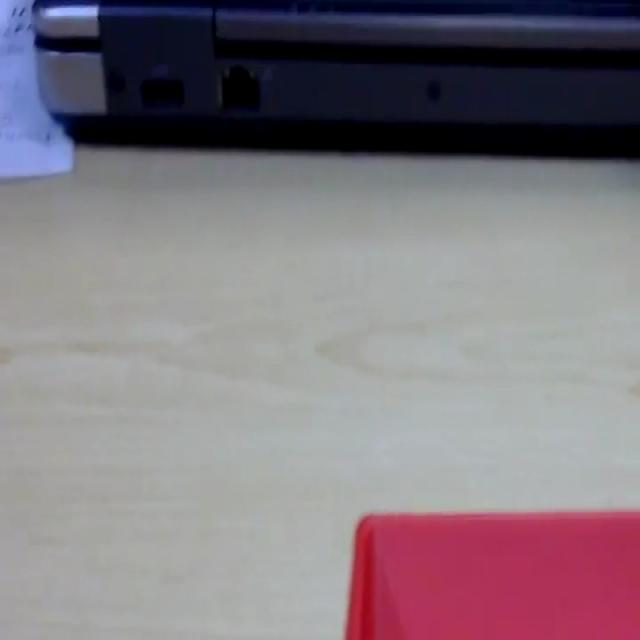red_block: (344, 507, 638, 637)
